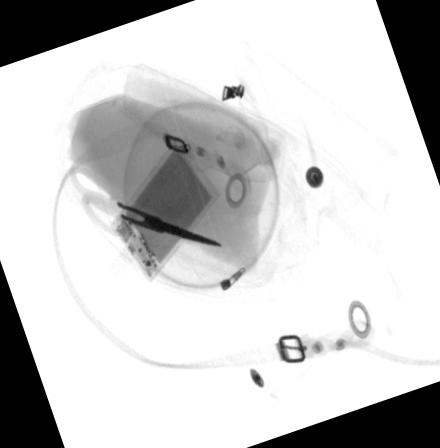Powerbank: (111, 141, 219, 280)
Scissors: (67, 166, 222, 249)
